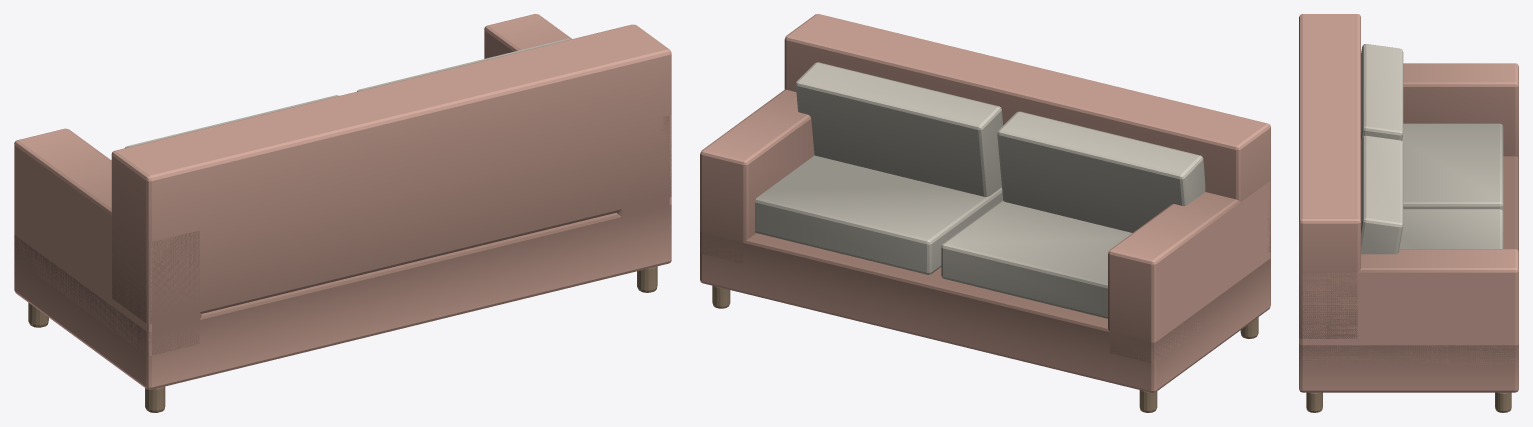
File: furn_sofa__coral.glb
3 renders of one model, left to right at view 1: azimuth 30°, elevation 25°; view 2: azimuth 150°, elevation 25°; view 3: azimuth 270°, elevation 25°, orthographic. The views are drawn at different scales.
Size of the model in its own units: 1.9 by 0.84 by 0.85.
